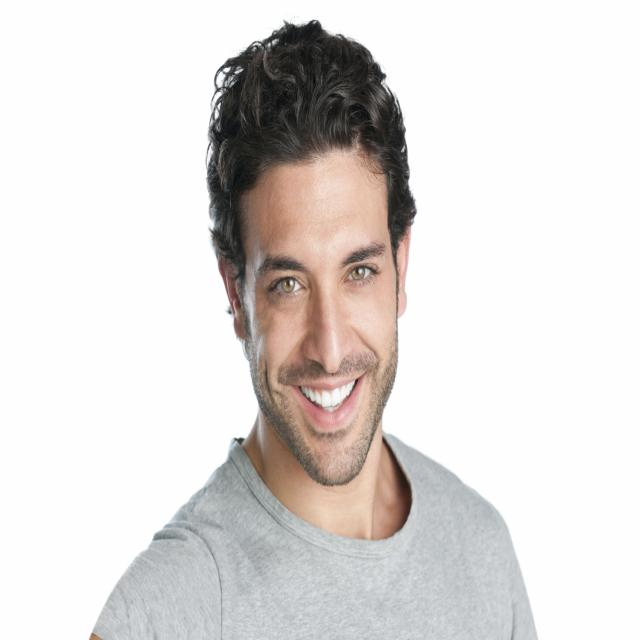earlobe: (232, 311, 247, 340), (396, 287, 406, 320)
eye: (344, 264, 376, 284), (273, 275, 303, 296)
nose: (305, 355, 359, 397)
wholeear: (217, 243, 247, 340), (397, 206, 413, 320)
